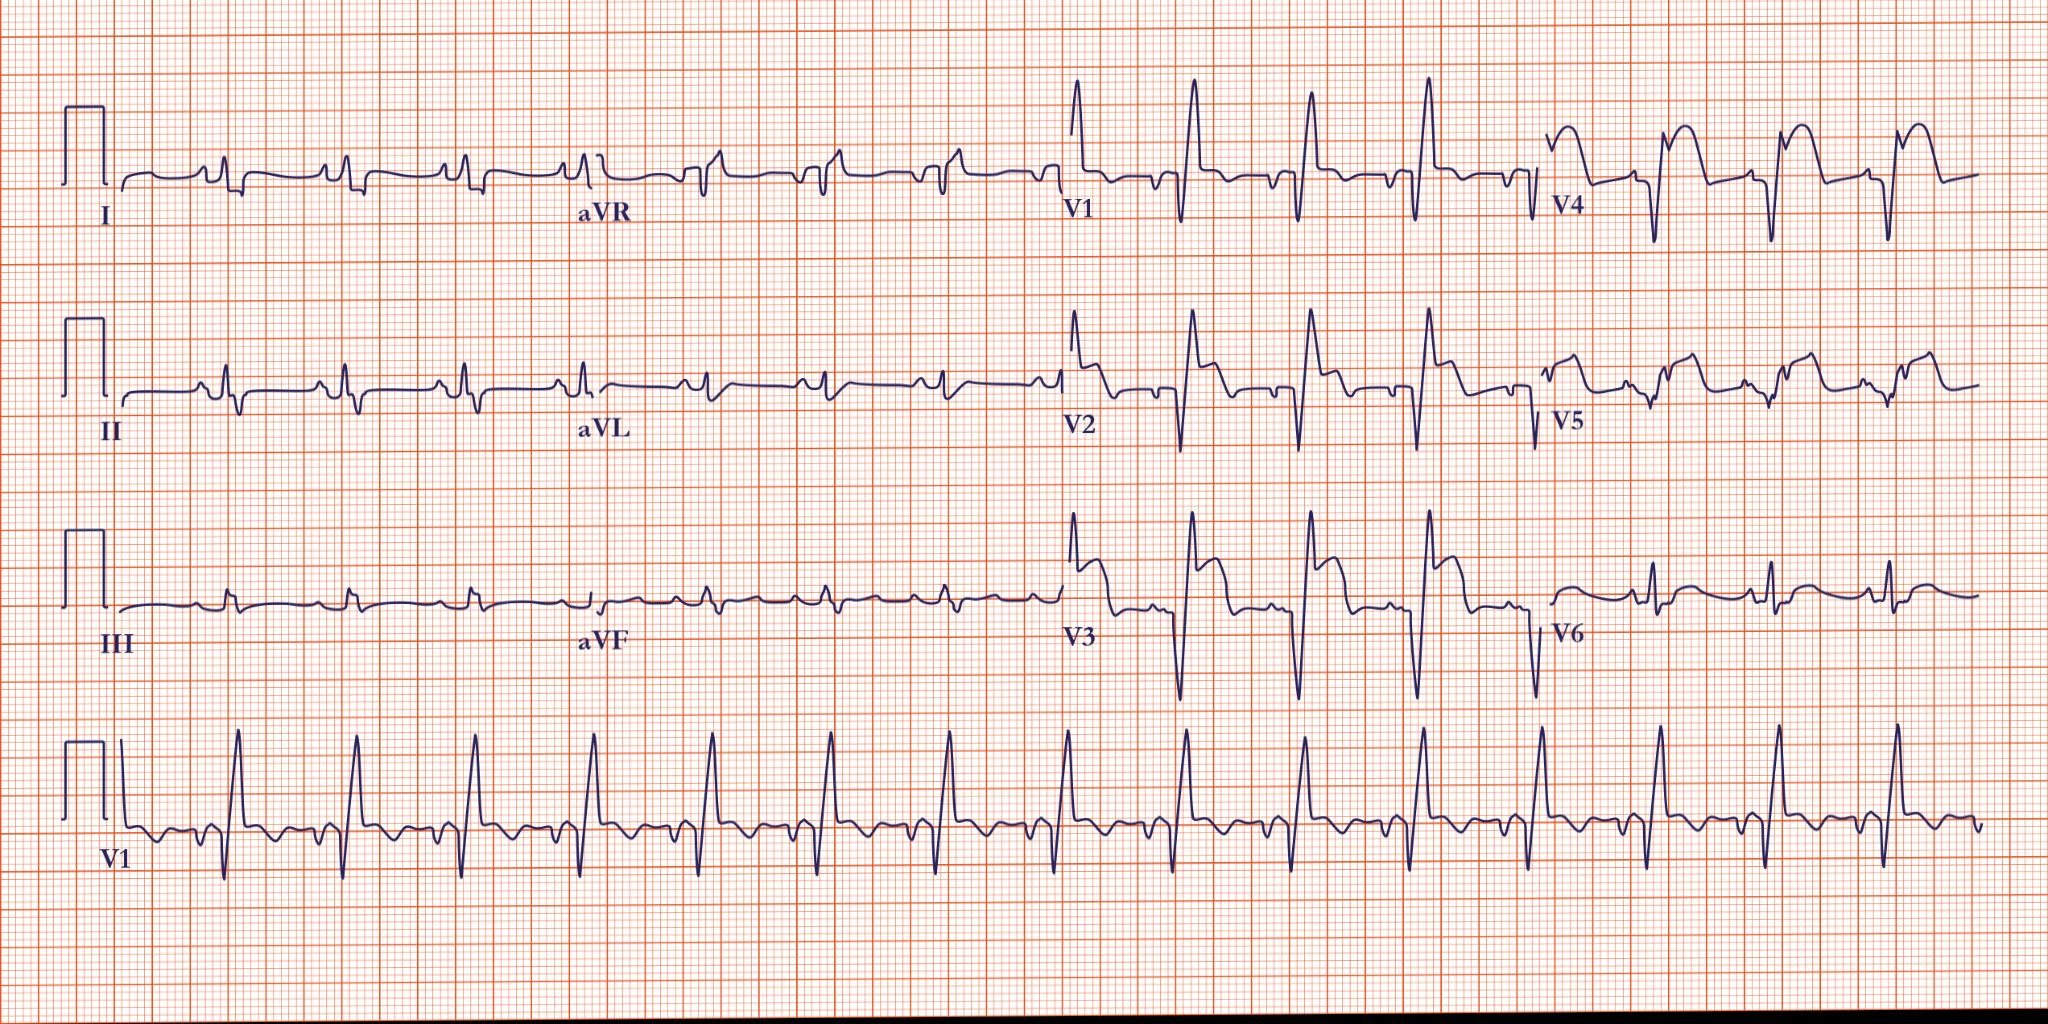Lead_I: (88, 104, 537, 247)
Lead_II: (89, 325, 543, 458)
Lead_III: (89, 533, 554, 683)
Lead_V1: (1051, 50, 1543, 274)
Lead_V2: (1059, 277, 1543, 473)
Lead_V3: (1063, 499, 1550, 720)
Lead_V4: (1543, 56, 1985, 257)
Lead_V5: (1539, 293, 1993, 457)
Lead_V6: (1553, 513, 2001, 675)
Lead_aVF: (552, 528, 1068, 673)
Lead_aVL: (541, 307, 1064, 452)
Lead_aVR: (546, 88, 1061, 272)
